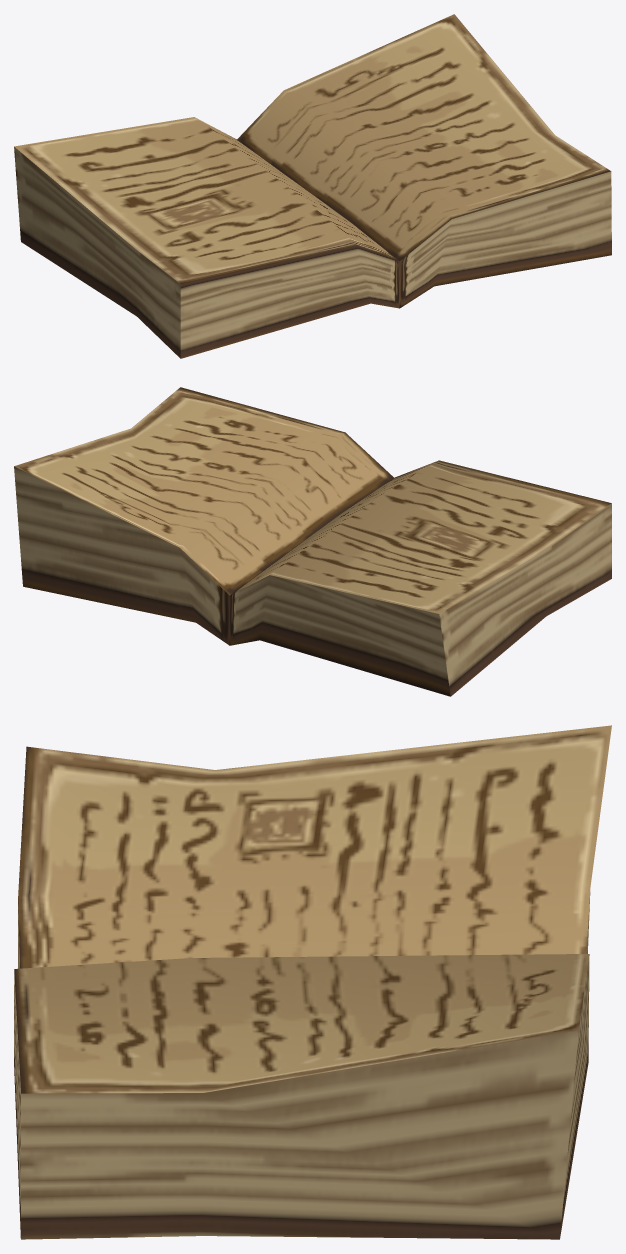
The model's file is SM_PROP_book_interior_02.fbx.
The picture shows the model from 3 angles, top to bottom: view 1: azimuth 30°, elevation 25°; view 2: azimuth 150°, elevation 25°; view 3: azimuth 270°, elevation 25°; orthographic projection. The views are drawn at different scales.
Parts seen in each view (by area): view 1: SM_PROP_book_interior_02; view 2: SM_PROP_book_interior_02; view 3: SM_PROP_book_interior_02.
Part boxes in pixels (left/top/right/bottom): SM_PROP_book_interior_02: left=14, top=14, right=611, bottom=358; SM_PROP_book_interior_02: left=14, top=387, right=611, bottom=696; SM_PROP_book_interior_02: left=14, top=725, right=611, bottom=1239.
Bounding box in the file's own units: 42.48 × 11.62 × 29.32.
